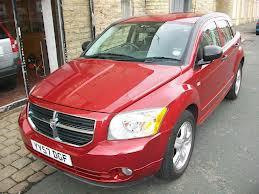Car: (15, 10, 253, 194)
